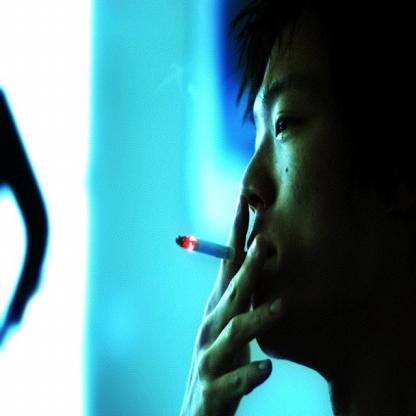smoking: (175, 235, 266, 262)
